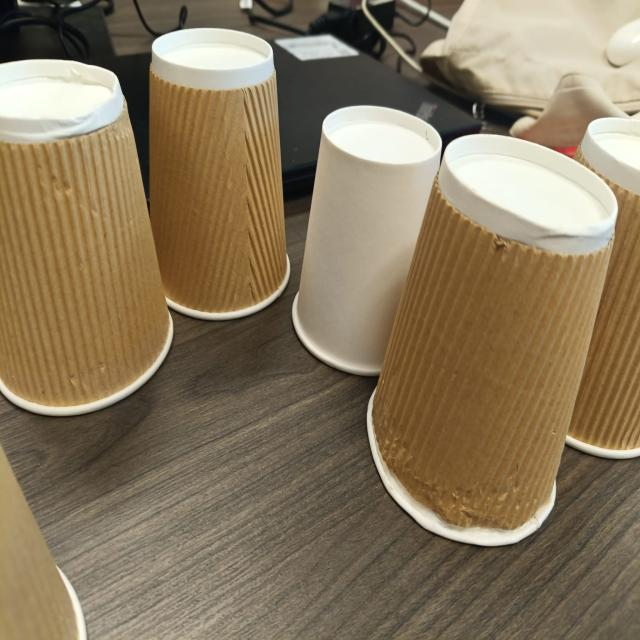Browncup: (0, 60, 172, 415), (149, 28, 290, 320), (566, 117, 640, 458), (438, 135, 617, 255), (0, 447, 87, 640)
Whitecup: (292, 106, 442, 375)
